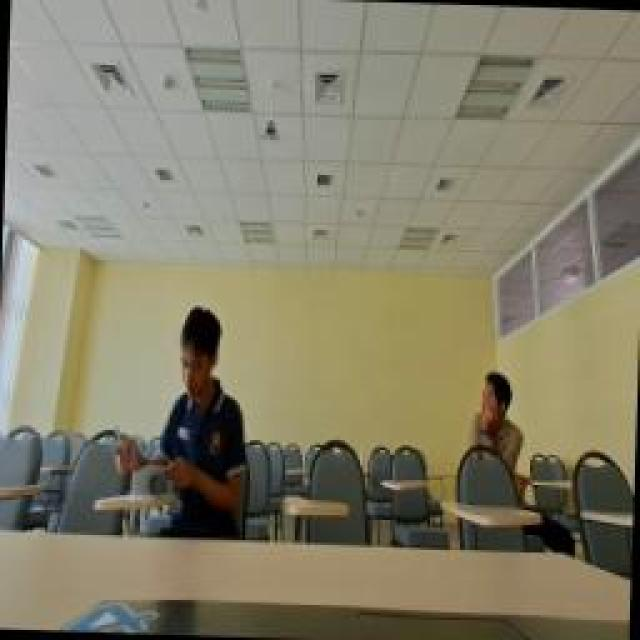study: (110, 300, 252, 538), (462, 367, 532, 505)
